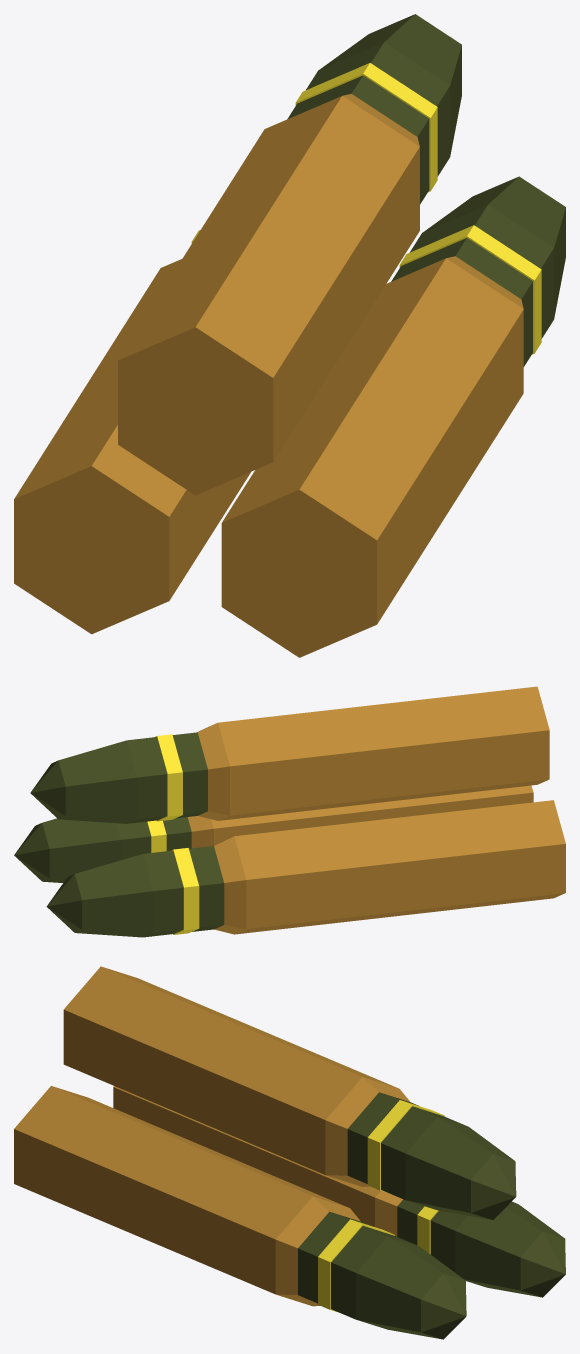
Rendered from ce_ammo_heavy_he_b.obj.
3 views of the same model, one above another, from view 1: azimuth 30°, elevation 25°; view 2: azimuth 150°, elevation 25°; view 3: azimuth 270°, elevation 25° (orthographic). The views are drawn at different scales.
Parts seen in each view (by area): view 1: ce_ammo_heavy_he_b_14, ce_ammo_heavy_he_b_7, ce_ammo_heavy_he_b_0, ce_ammo_heavy_he_b_19, ce_ammo_heavy_he_b_12, ce_ammo_heavy_he_b_18, ce_ammo_heavy_he_b_11, ce_ammo_heavy_he_b_16, ce_ammo_heavy_he_b_9, ce_ammo_heavy_he_b_10, ce_ammo_heavy_he_b_17; view 2: ce_ammo_heavy_he_b_14, ce_ammo_heavy_he_b_0, ce_ammo_heavy_he_b_7, ce_ammo_heavy_he_b_5, ce_ammo_heavy_he_b_19, ce_ammo_heavy_he_b_12, ce_ammo_heavy_he_b_18, ce_ammo_heavy_he_b_4, ce_ammo_heavy_he_b_1, ce_ammo_heavy_he_b_2, ce_ammo_heavy_he_b_15, ce_ammo_heavy_he_b_16 (+9 smaller); view 3: ce_ammo_heavy_he_b_14, ce_ammo_heavy_he_b_7, ce_ammo_heavy_he_b_0, ce_ammo_heavy_he_b_19, ce_ammo_heavy_he_b_12, ce_ammo_heavy_he_b_5, ce_ammo_heavy_he_b_8, ce_ammo_heavy_he_b_15, ce_ammo_heavy_he_b_18, ce_ammo_heavy_he_b_11, ce_ammo_heavy_he_b_6, ce_ammo_heavy_he_b_13 (+9 smaller).
Part boxes in pixels (x1,y1,x2,y2): ce_ammo_heavy_he_b_14: [118, 96, 419, 495]; ce_ammo_heavy_he_b_7: [221, 258, 523, 657]; ce_ammo_heavy_he_b_0: [14, 259, 250, 634]; ce_ammo_heavy_he_b_19: [318, 14, 461, 155]; ce_ammo_heavy_he_b_12: [422, 176, 565, 318]; ce_ammo_heavy_he_b_18: [306, 42, 450, 176]; ce_ammo_heavy_he_b_11: [410, 205, 553, 338]; ce_ammo_heavy_he_b_16: [287, 75, 429, 204]; ce_ammo_heavy_he_b_9: [391, 238, 532, 366]; ce_ammo_heavy_he_b_10: [399, 225, 541, 354]; ce_ammo_heavy_he_b_17: [295, 63, 437, 192]; ce_ammo_heavy_he_b_14: [218, 686, 549, 820]; ce_ammo_heavy_he_b_0: [234, 800, 565, 934]; ce_ammo_heavy_he_b_7: [211, 785, 533, 845]; ce_ammo_heavy_he_b_5: [75, 854, 153, 937]; ce_ammo_heavy_he_b_19: [58, 740, 136, 823]; ce_ammo_heavy_he_b_12: [42, 818, 120, 882]; ce_ammo_heavy_he_b_18: [126, 737, 167, 823]; ce_ammo_heavy_he_b_4: [143, 850, 183, 937]; ce_ammo_heavy_he_b_1: [213, 836, 246, 934]; ce_ammo_heavy_he_b_2: [189, 846, 224, 931]; ce_ammo_heavy_he_b_15: [197, 723, 229, 820]; ce_ammo_heavy_he_b_16: [172, 732, 207, 818]; ce_ammo_heavy_he_b_14: [63, 966, 398, 1174]; ce_ammo_heavy_he_b_7: [14, 1086, 347, 1294]; ce_ammo_heavy_he_b_0: [113, 1086, 380, 1226]; ce_ammo_heavy_he_b_19: [405, 1117, 514, 1219]; ce_ammo_heavy_he_b_12: [356, 1236, 465, 1339]; ce_ammo_heavy_he_b_5: [455, 1202, 564, 1297]; ce_ammo_heavy_he_b_8: [275, 1196, 360, 1306]; ce_ammo_heavy_he_b_15: [325, 1077, 409, 1186]; ce_ammo_heavy_he_b_18: [381, 1106, 467, 1199]; ce_ammo_heavy_he_b_11: [331, 1226, 416, 1319]; ce_ammo_heavy_he_b_6: [520, 1231, 565, 1297]; ce_ammo_heavy_he_b_13: [421, 1273, 466, 1339].
Bounding box in the file's own units: 0.8643 × 0.36 × 0.8643.
